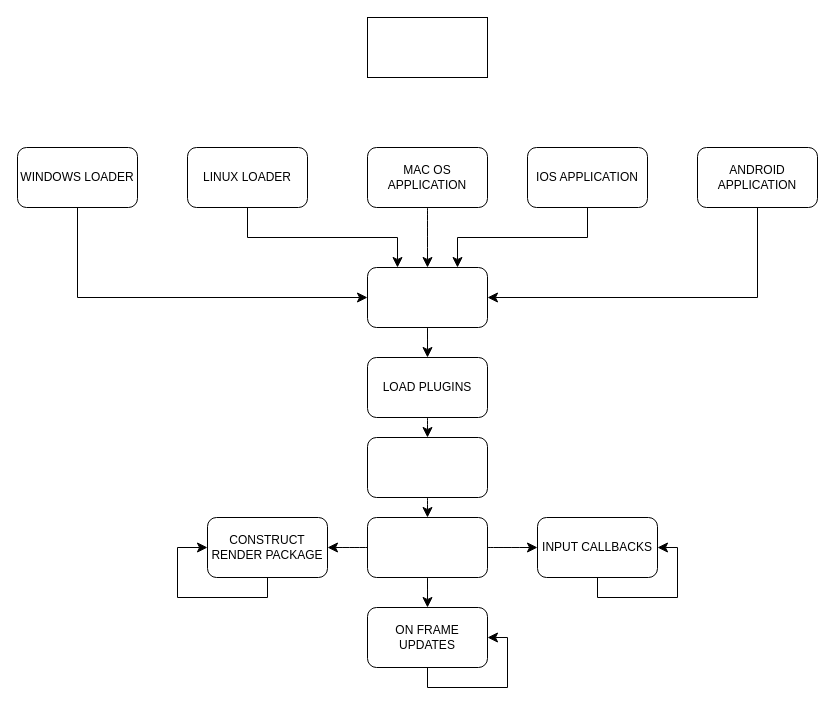
Some shapes in this 835 by 715 pixel diagram are drawn without their labels. Each missing label, with the box of its shape:
ENGINE MAIN LOOP ENTRY: (366, 516, 488, 578)
LOAD APPLICATION LIBRARY: (366, 436, 488, 498)
LOAD ENGINE LIBRARY: (366, 266, 488, 328)
MAIN ENTRY POINT: (366, 16, 488, 78)
